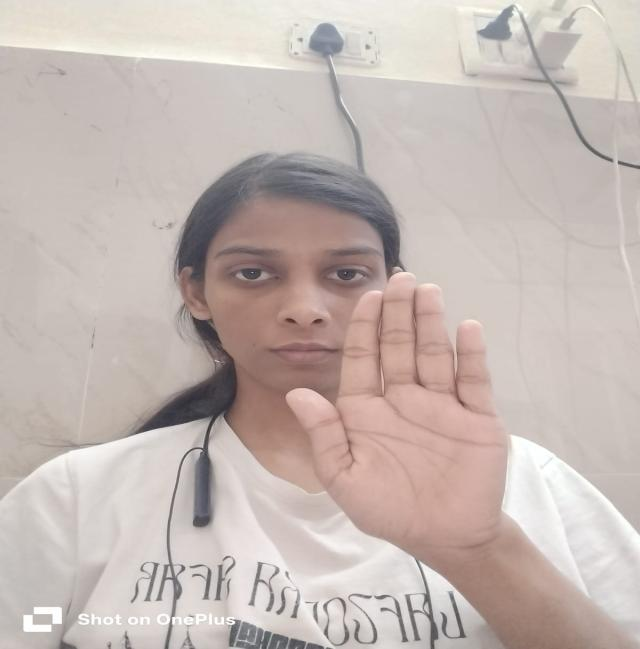Hello: (258, 260, 530, 578)
